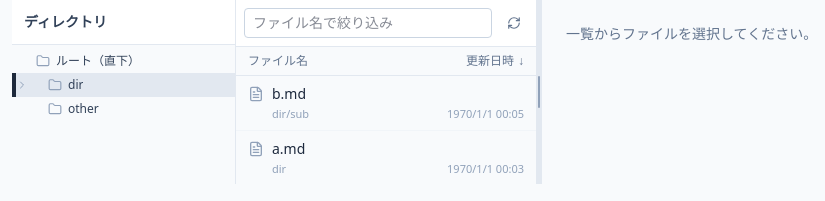
Test case: VaultExplorerTab › filters by filename only, not directory
Type "b" into the search field named "ファイル名フィルター". click: (368, 23)
box: top-left (244, 8), bottom-right (492, 38)
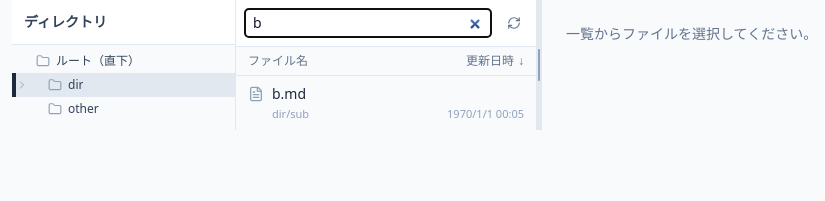
Replace the text in the search field named "ファイル名フィルター" with "sub". click: (368, 23)
box: top-left (244, 8), bottom-right (492, 38)
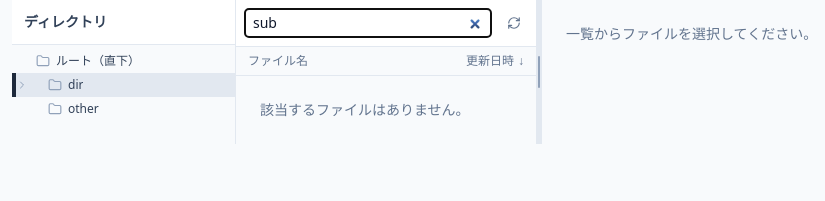
Now no buttons with test id "vault-explorer-row" are shown
